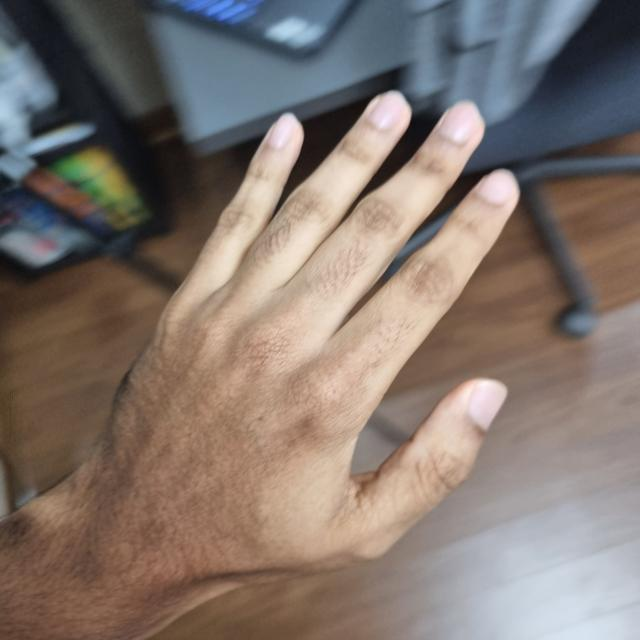Paper: (88, 99, 523, 629)
